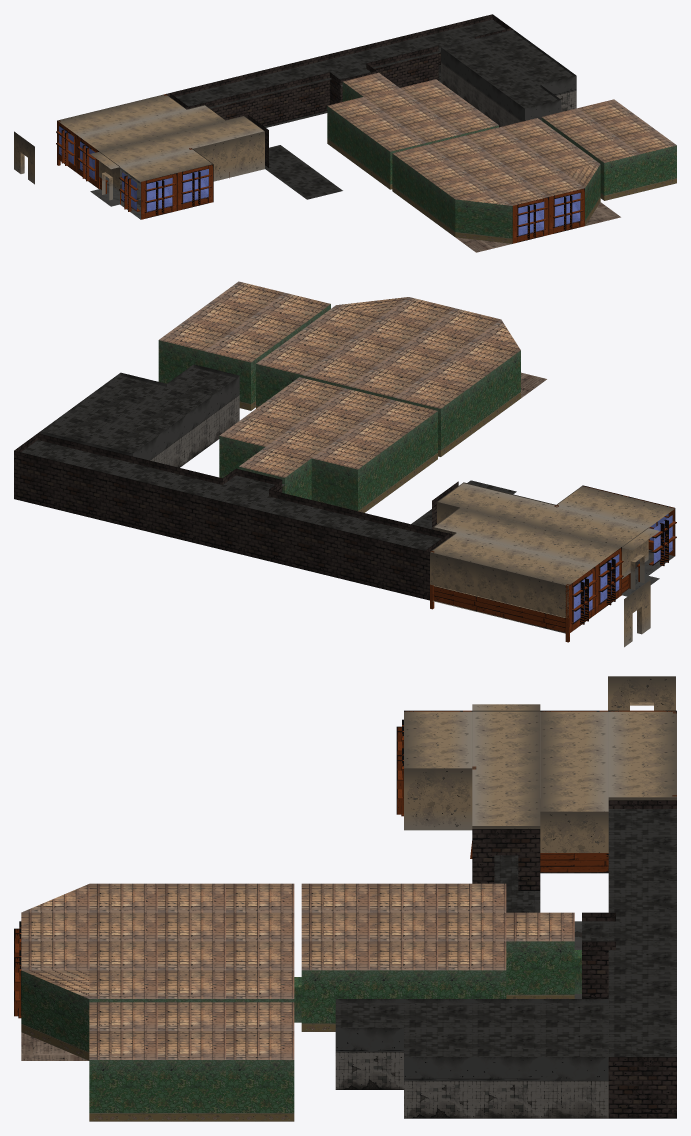
The model's file is locationone 1.fbx.
3 renders of one model, top to bottom at view 1: azimuth 30°, elevation 25°; view 2: azimuth 150°, elevation 25°; view 3: azimuth 270°, elevation 25°, orthographic. The views are drawn at different scales.
Parts seen in each view (by area): view 1: Plane.079, Plane.045, Plane.111, Plane.047, Plane.004, Plane.080, Plane.030, Plane.087, Plane.071, Plane.085, Plane.006, Plane.066 (+15 smaller); view 2: Plane.038, Plane.079, Plane.045, Plane.111, Plane.004, Plane.047, Plane.080, Plane.070, Plane.066, Plane.006, Plane.099, Plane.098 (+9 smaller); view 3: Plane.079, Plane.045, Plane.111, Plane.047, Plane.004, Plane.081, Plane.013, Plane.080, Plane.093, Plane.115, Plane.088, Plane.005 (+12 smaller).
Part boxes in pixels (x1=…): Plane.079: x1=393, y1=118, x2=600, y2=205; Plane.045: x1=58, y1=94, x2=263, y2=182; Plane.111: x1=327, y1=72, x2=498, y2=151; Plane.047: x1=176, y1=19, x2=505, y2=108; Plane.004: x1=444, y1=32, x2=573, y2=108; Plane.080: x1=542, y1=99, x2=676, y2=162; Plane.030: x1=185, y1=72, x2=329, y2=126; Plane.087: x1=512, y1=188, x2=584, y2=243; Plane.071: x1=141, y1=164, x2=213, y2=219; Plane.085: x1=604, y1=145, x2=676, y2=200; Plane.006: x1=441, y1=47, x2=524, y2=127; Plane.066: x1=56, y1=121, x2=140, y2=211; Plane.038: x1=14, y1=451, x2=429, y2=600; Plane.079: x1=256, y1=297, x2=520, y2=408; Plane.045: x1=431, y1=483, x2=674, y2=585; Plane.111: x1=219, y1=377, x2=437, y2=477; Plane.004: x1=44, y1=367, x2=235, y2=453; Plane.047: x1=21, y1=440, x2=441, y2=550; Plane.080: x1=159, y1=281, x2=330, y2=362; Plane.070: x1=430, y1=551, x2=569, y2=642; Plane.066: x1=570, y1=514, x2=676, y2=632; Plane.006: x1=133, y1=376, x2=239, y2=467; Plane.099: x1=441, y1=350, x2=520, y2=456; Plane.098: x1=358, y1=411, x2=437, y2=512; Plane.079: x1=21, y1=883, x2=294, y2=998; Plane.045: x1=404, y1=704, x2=676, y2=825; Plane.111: x1=301, y1=883, x2=574, y2=970; Plane.047: x1=574, y1=809, x2=676, y2=1056; Plane.004: x1=335, y1=1003, x2=608, y2=1056; Plane.081: x1=89, y1=1060, x2=294, y2=1121; Plane.013: x1=404, y1=1057, x2=608, y2=1118; Plane.080: x1=89, y1=1002, x2=294, y2=1059; Plane.093: x1=301, y1=970, x2=506, y2=1031; Plane.115: x1=404, y1=766, x2=476, y2=830; Plane.088: x1=21, y1=970, x2=89, y2=1060; Plane.005: x1=335, y1=1028, x2=403, y2=1089.
Bounding box in the file's own units: 5320 × 468 × 3885.
